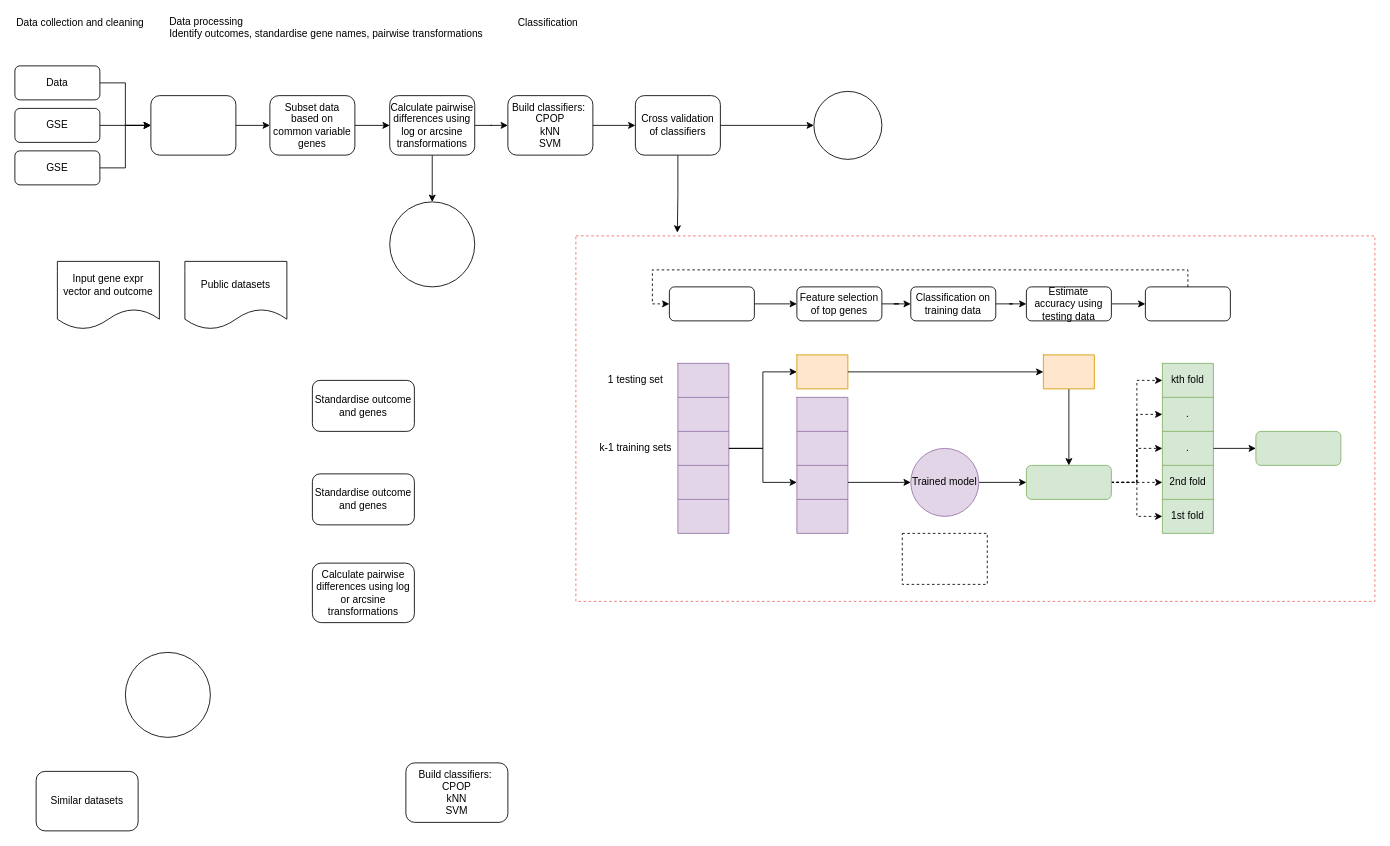
Image size: 1390x846. Some labels were removed from this diagram. The centre of each missing label's shape, as x and y in pixels:
Accuracy estimate: point (1068, 482)
Compare transformations across the datasets: point (167, 694)
CPOP kNN SVM: point (944, 558)
Feature diagram: point (847, 125)
Mean accuracy: point (1298, 448)
Repeat k times with different testing sets: point (1187, 303)
Split data into k sets: point (711, 303)
Top 2000 variable genes: point (193, 125)
Visualise transformations across the datasets: point (432, 244)
